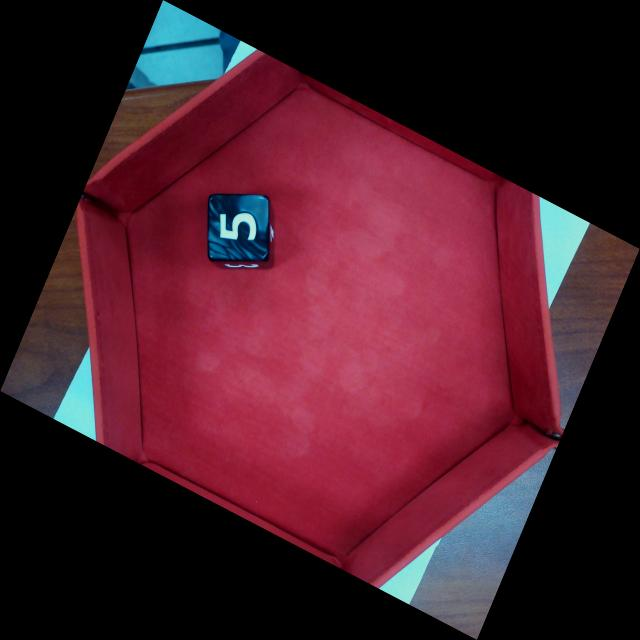dice: (207, 192, 270, 262)
